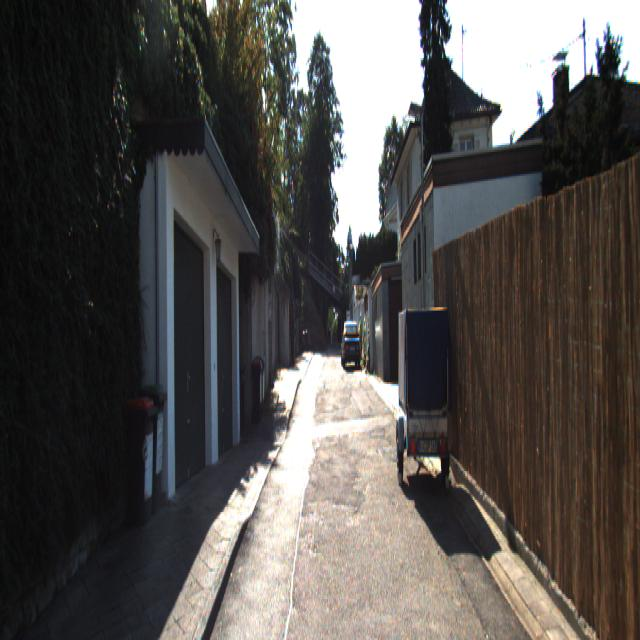Car: (393, 294, 459, 492), (340, 321, 360, 372)
